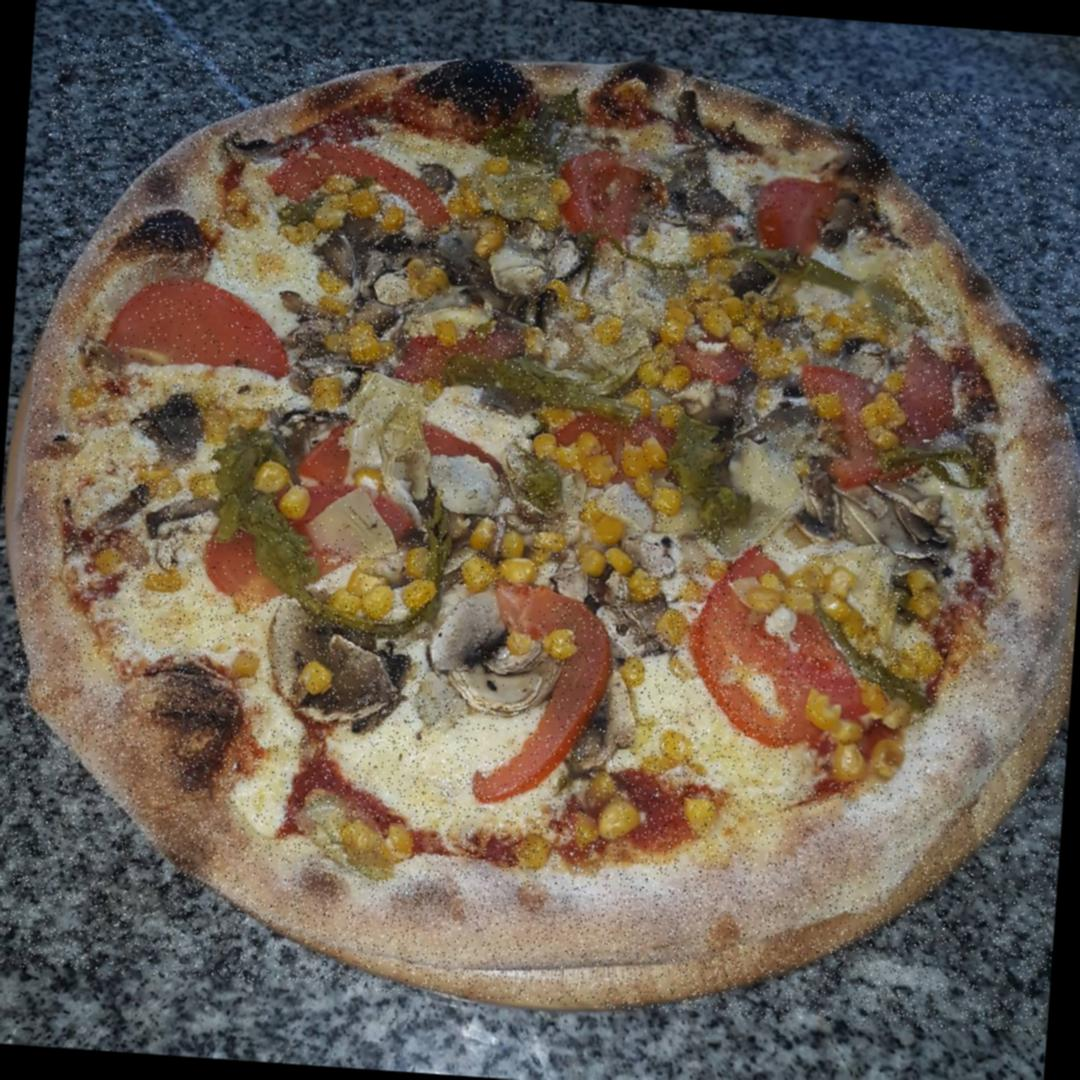Arugula: (206, 412, 332, 599), (710, 236, 898, 312), (673, 390, 767, 532), (449, 354, 632, 424), (459, 93, 598, 158)
Corn: (531, 427, 688, 503), (793, 689, 912, 786), (732, 558, 865, 630), (814, 384, 911, 454), (569, 511, 644, 596), (308, 168, 393, 238), (629, 339, 695, 427), (820, 308, 912, 363), (256, 450, 325, 518), (325, 568, 406, 622), (688, 279, 755, 343), (348, 822, 418, 871), (298, 263, 356, 322), (581, 794, 647, 845), (400, 255, 454, 304), (326, 330, 387, 370), (406, 544, 442, 606), (900, 568, 942, 621), (291, 660, 337, 703), (226, 640, 262, 681), (508, 533, 534, 587), (450, 186, 483, 228), (658, 297, 688, 342), (476, 152, 514, 179), (520, 323, 548, 357), (442, 316, 464, 344)
Mushroom: (260, 600, 410, 734), (424, 586, 554, 704), (777, 474, 960, 554), (434, 233, 530, 330), (727, 372, 822, 462)
Peppers: (236, 422, 503, 556), (688, 552, 873, 745), (483, 578, 619, 805), (104, 278, 302, 384), (788, 350, 938, 483), (276, 150, 450, 236), (542, 146, 653, 248), (754, 147, 854, 260)
Pizza: (0, 32, 1080, 1039)
